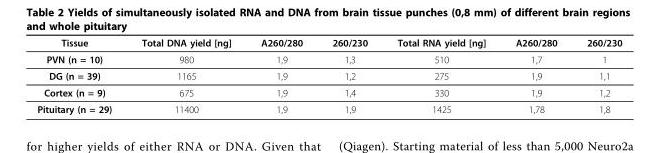table: (36, 36, 621, 114)
table column: (126, 36, 245, 114), (381, 36, 500, 114), (36, 36, 126, 114), (245, 36, 316, 114), (500, 36, 571, 114), (316, 36, 381, 114), (571, 36, 621, 114)
table column header: (36, 36, 621, 50)
table row: (36, 50, 621, 67), (36, 83, 621, 100), (36, 67, 621, 83), (36, 36, 621, 50), (36, 100, 621, 114)
